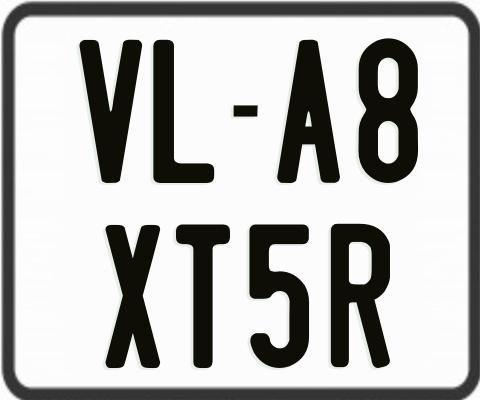5: (246, 223, 310, 366)
8: (356, 38, 422, 183)
A: (275, 38, 343, 184)
L: (151, 38, 214, 187)
R: (330, 223, 389, 370)
T: (176, 223, 236, 371)
V: (79, 40, 148, 186)
X: (105, 225, 159, 372)
